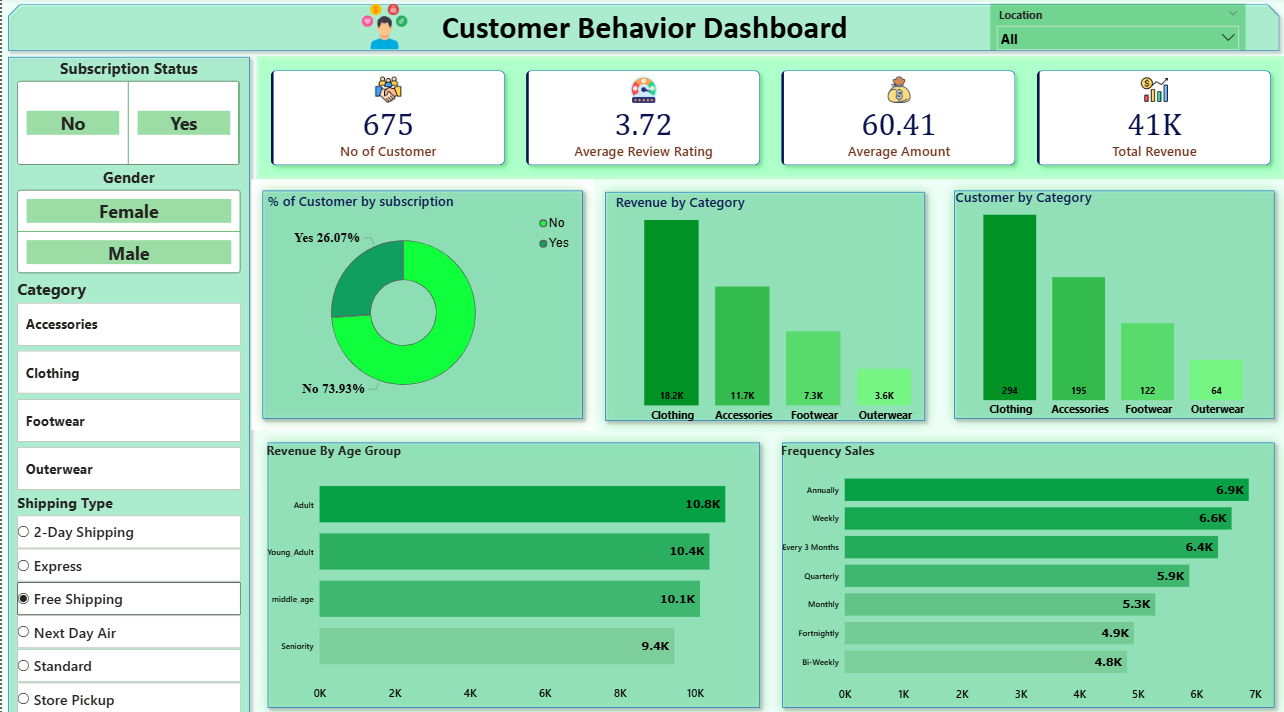

The dashboard page shown, as its layout file describes it:
{"tool":"powerbi","page":{"name":"Page 1","canvas":[1920,1080],"ordinal":0},"visuals":[{"type":"shape","box":[0,2,1920,88],"z":0},{"type":"textbox","box":[622,10,678,70],"z":1000},{"type":"cardVisual","fields":{"Data":["customer.No of Customer","customer.Average Review Rating","customer.Average Amount","customer.Total Revenue"]},"box":[380.9,88.3,1539.2,184.6],"z":2000},{"type":"image","box":[514,0,116,88],"z":3000},{"type":"shape","box":[0,80,380,1000],"z":4000},{"type":"shape","box":[373,272.9,512.4,375],"z":5000},{"type":"shape","box":[1407.7,272.9,512.4,375],"z":6000},{"type":"shape","box":[886,274,512,376],"z":7000},{"type":"shape","box":[380.9,649.9,769.6,430],"z":8000},{"type":"shape","box":[1150.5,649.9,769.6,430],"z":9000},{"type":"donutChart","title":"% of Customer by subscription","fields":{"Category":["customer.subscription_status"],"Y":["Sum(customer.purchase_amount)"]},"box":[392.9,291.4,470,335.7],"z":10000},{"type":"columnChart","title":"Revenue by Category","fields":{"Category":["customer.category"],"Y":["Sum(customer.purchase_amount)"]},"box":[912,292,498,354],"z":11000},{"type":"columnChart","title":"Customer by Category","fields":{"Category":["customer.category"],"Y":["customer.No of Customer"]},"box":[1422,284,484,354],"z":12000},{"type":"advancedSlicerVisual","fields":{"Values":["customer.subscription_status"]},"box":[18,90,344,166],"z":13000},{"type":"advancedSlicerVisual","title":"Gender","fields":{"Values":["customer.gender"]},"box":[18,254,344,166],"z":14000},{"type":"advancedSlicerVisual","title":"Category","fields":{"Values":["customer.category"]},"box":[18,420,344,322],"z":15000},{"type":"listSlicer","title":"Shipping Type","fields":{"Values":["customer.shipping_type"]},"box":[18,742,344,338],"z":16000},{"type":"clusteredBarChart","title":"Revenue By Age Group","fields":{"Y":["Sum(customer.purchase_amount)"],"Category":["customer.age_group"]},"box":[390,665.6,750,397.8],"z":16001},{"type":"clusteredBarChart","title":"Frequency Sales","fields":{"Y":["Sum(customer.purchase_amount)"],"Category":["customer.frequency_of_purchases"]},"box":[1160,665,750,398.3],"z":16002},{"type":"slicer","fields":{"Values":["customer.location"]},"box":[1478,10,382,70],"z":16003}]}

Visuals, with their boxes in screenshot pixels (x1, y1, x2, y2), scaled from the page's 1920x1080 canvas onto the 1284x712 screenshot:
shape: l=0, t=1, r=1283, b=59
textbox: l=416, t=7, r=869, b=53
cardVisual - customer.No of Customer x customer.Average Review Rating: l=255, t=58, r=1283, b=180
image: l=344, t=0, r=421, b=58
shape: l=0, t=53, r=254, b=711
shape: l=249, t=180, r=592, b=427
shape: l=941, t=180, r=1283, b=427
shape: l=593, t=181, r=935, b=429
shape: l=255, t=428, r=769, b=711
shape: l=769, t=428, r=1283, b=711
"% of Customer by subscription" donutChart: l=263, t=192, r=577, b=413
"Revenue by Category" columnChart: l=610, t=193, r=943, b=426
"Customer by Category" columnChart: l=951, t=187, r=1275, b=421
advancedSlicerVisual - customer.subscription_status: l=12, t=59, r=242, b=169
"Gender" advancedSlicerVisual: l=12, t=167, r=242, b=277
"Category" advancedSlicerVisual: l=12, t=277, r=242, b=489
"Shipping Type" listSlicer: l=12, t=489, r=242, b=711
"Revenue By Age Group" clusteredBarChart: l=261, t=439, r=762, b=701
"Frequency Sales" clusteredBarChart: l=776, t=438, r=1277, b=701
slicer - customer.location: l=988, t=7, r=1244, b=53
